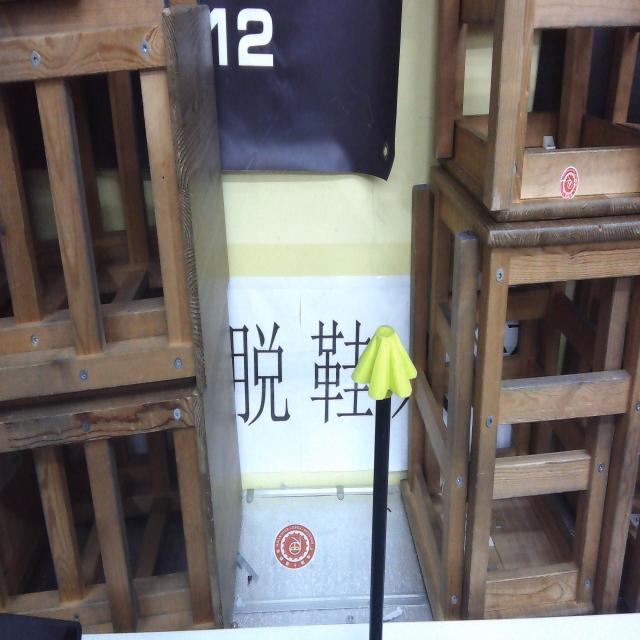Yellow-Stake-Head: (351, 325, 416, 400)
